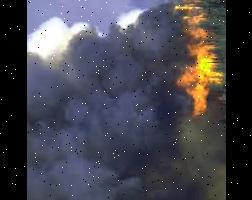fire: (167, 0, 225, 123)
